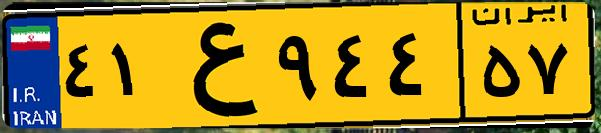1: (110, 28, 158, 98)
4: (385, 28, 445, 110), (330, 28, 385, 110), (57, 26, 110, 100)
5: (475, 38, 525, 113)
7: (525, 38, 570, 115)
9: (270, 28, 330, 110)
ع: (158, 12, 270, 120)
